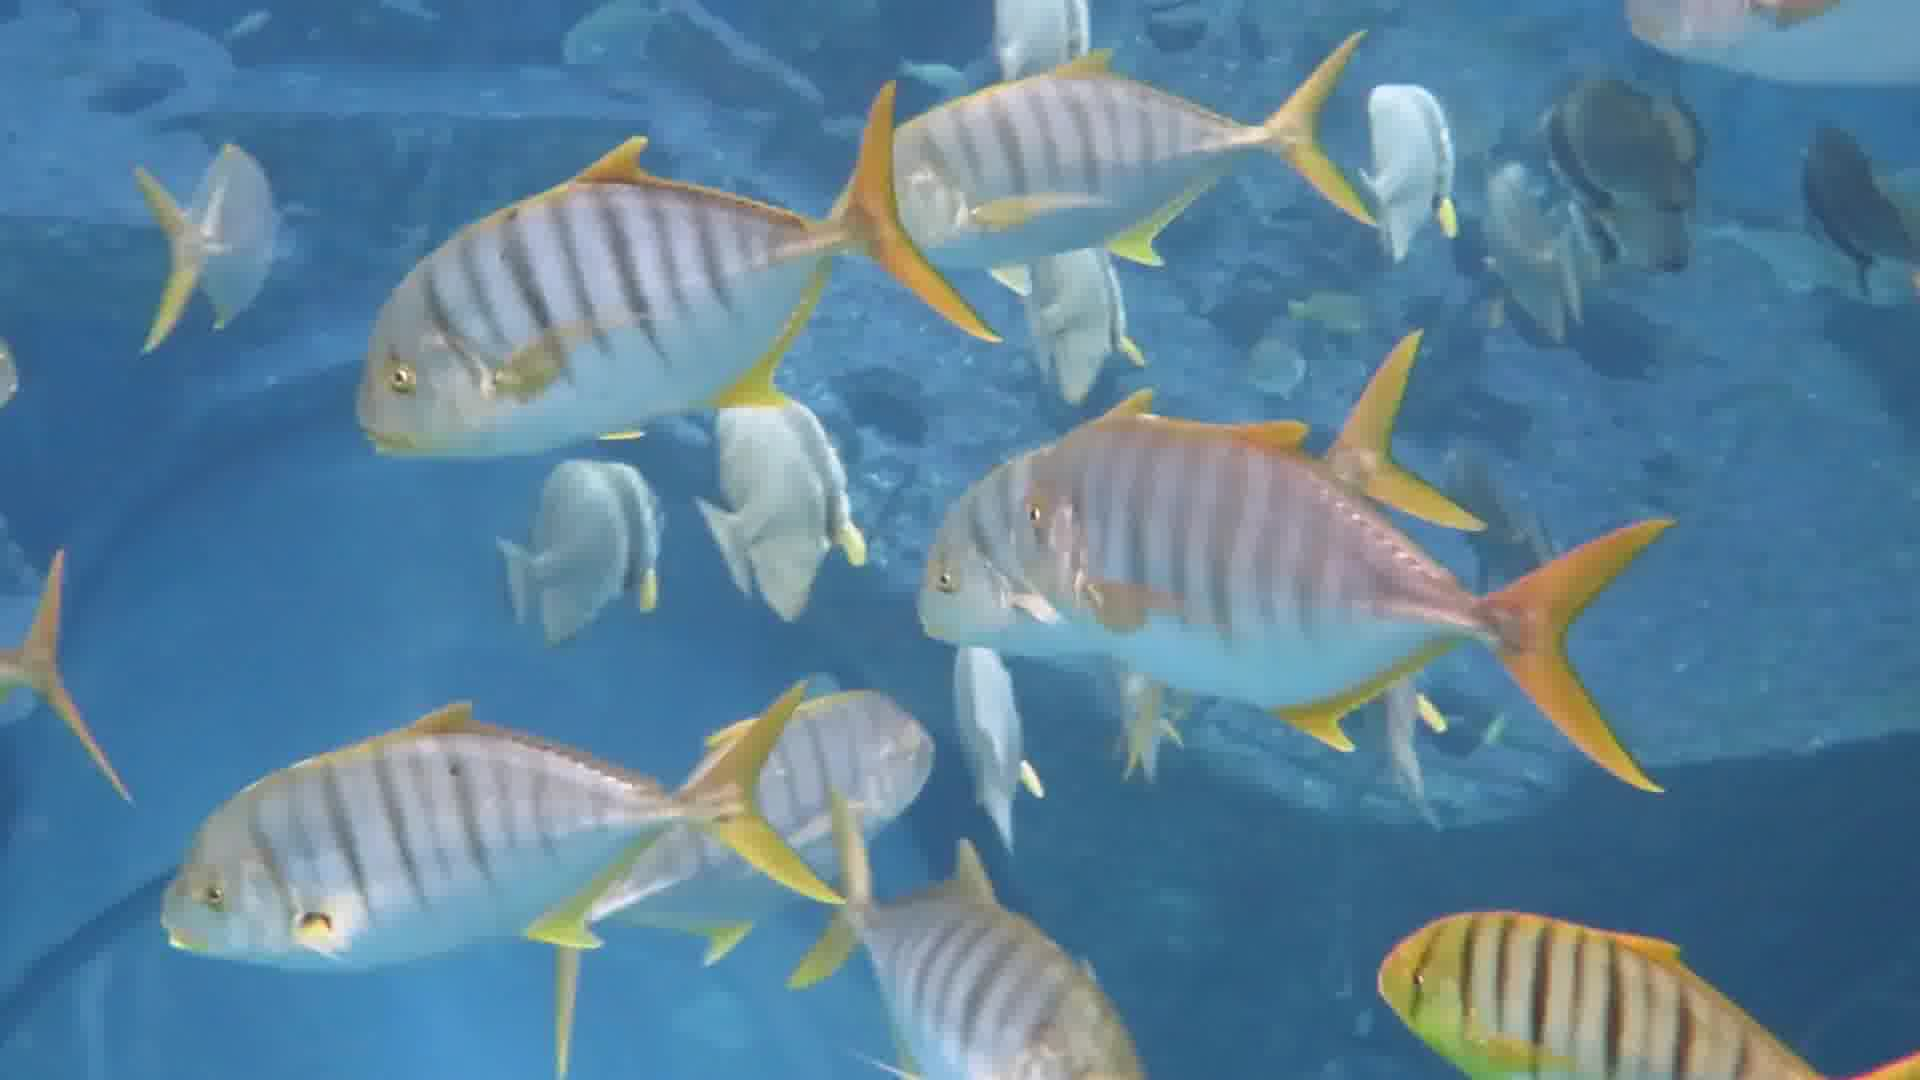Gnathanodon speciosus: (342, 135, 881, 483), (1005, 446, 1644, 735), (175, 705, 791, 973), (870, 1, 1427, 293), (829, 852, 1176, 1069)
